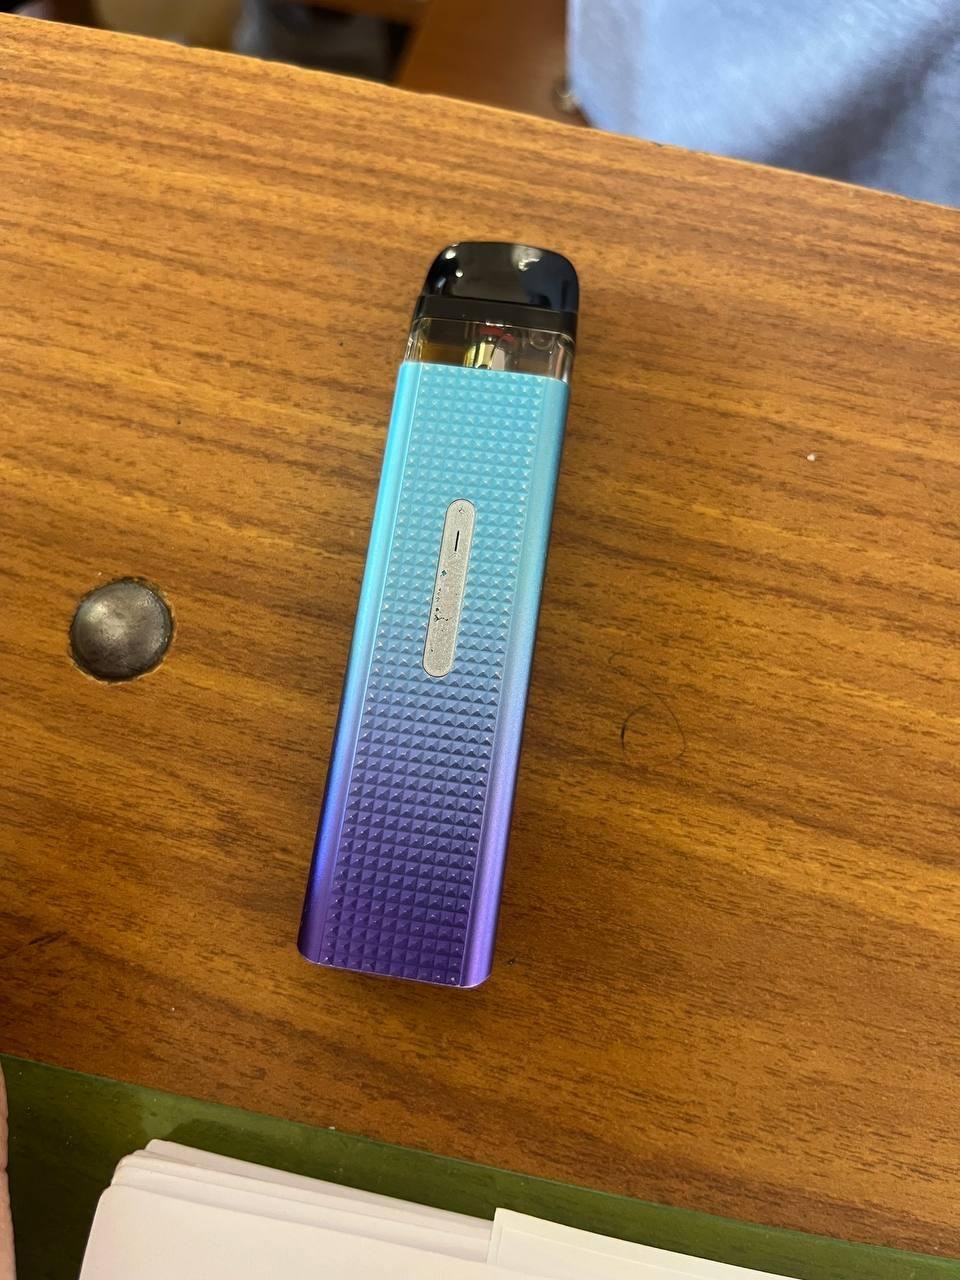Vape: (298, 242, 578, 988), (439, 477, 480, 584)
